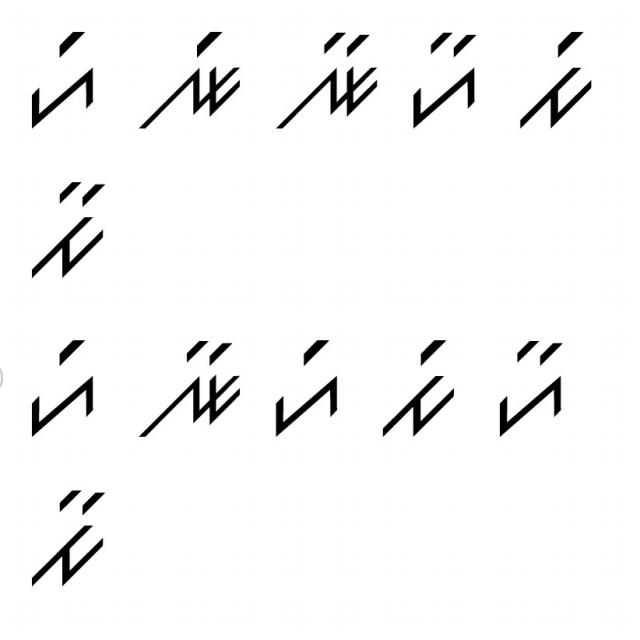han: (490, 335, 567, 439), (406, 30, 480, 137)
hang: (17, 337, 98, 452), (17, 27, 99, 133), (265, 331, 342, 441)
mban: (17, 175, 109, 278)
mbang: (373, 336, 459, 448), (513, 25, 597, 131)
ndan: (134, 328, 242, 444), (272, 23, 379, 135)
ndang: (132, 25, 245, 141)
